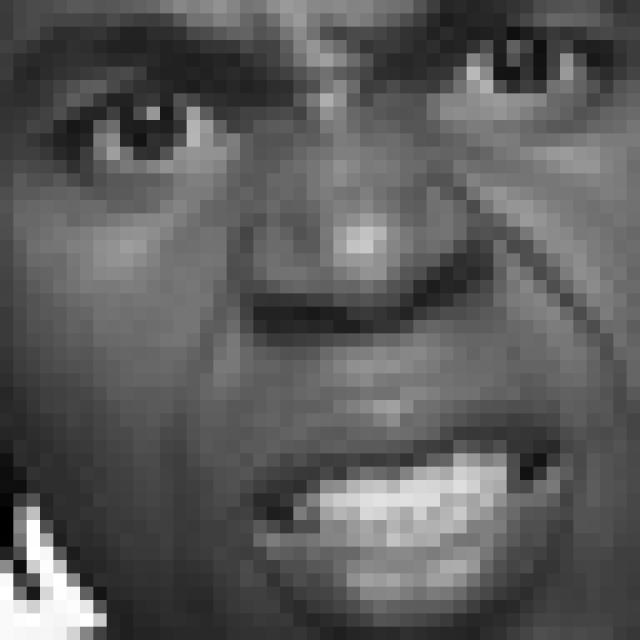angry: (34, 0, 614, 640)
